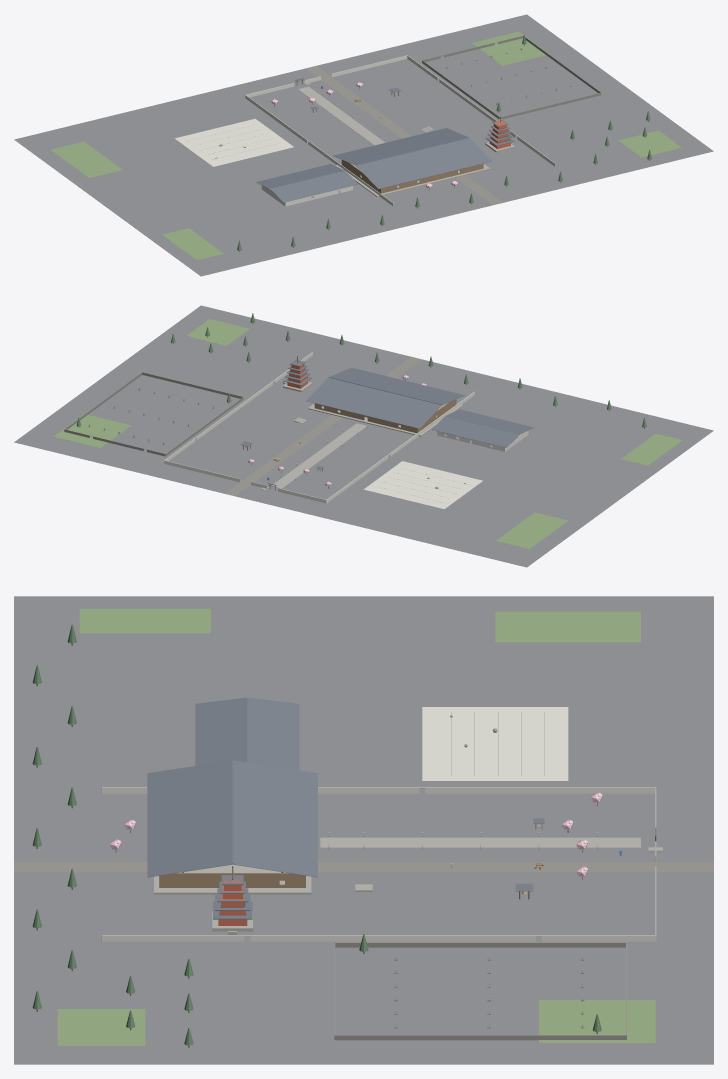
File: zone_5.glb
3 renders of one model, top to bottom at view 1: azimuth 30°, elevation 25°; view 2: azimuth 150°, elevation 25°; view 3: azimuth 270°, elevation 25°, orthographic. The views are drawn at different scales.
Visible parts, largest first — view 1: zone_akitsu_z5; view 2: zone_akitsu_z5; view 3: zone_akitsu_z5.
Boxes of the visible parts, x1,y1,x2,y2 form: zone_akitsu_z5: (14, 14, 713, 276); zone_akitsu_z5: (14, 305, 713, 567); zone_akitsu_z5: (14, 596, 713, 1064).
Bounding box in the file's own units: 380 × 21.98 × 240.
